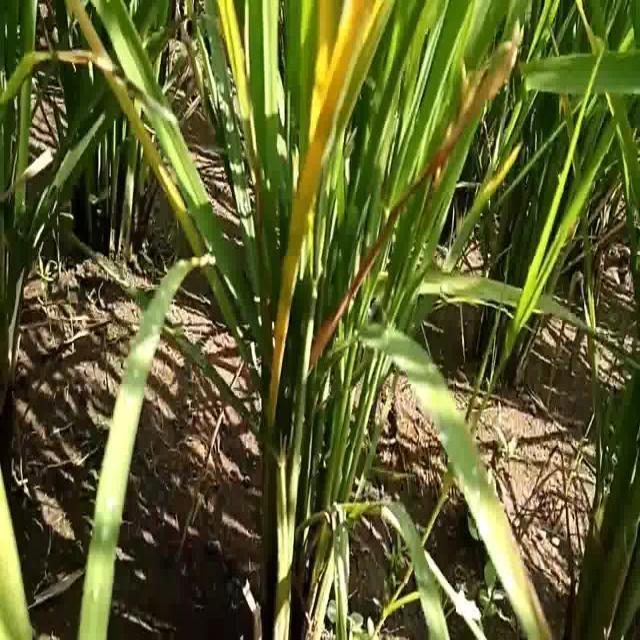Rice Tungro: (263, 3, 385, 415), (60, 2, 180, 213), (215, 2, 255, 123)
